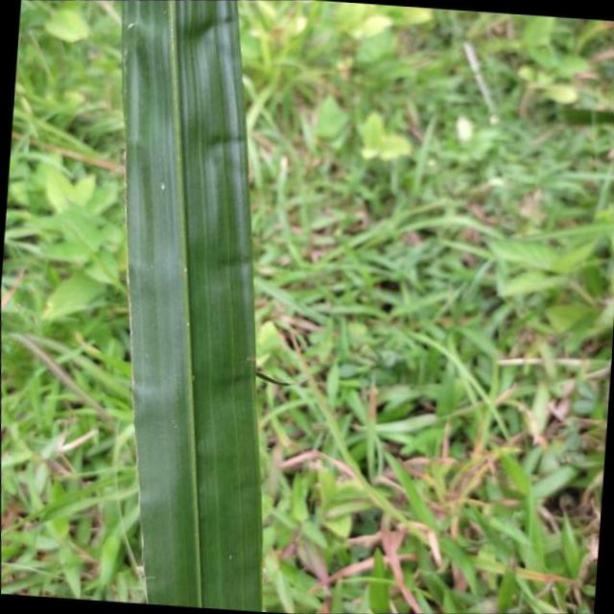Boron: (123, 0, 262, 614)
